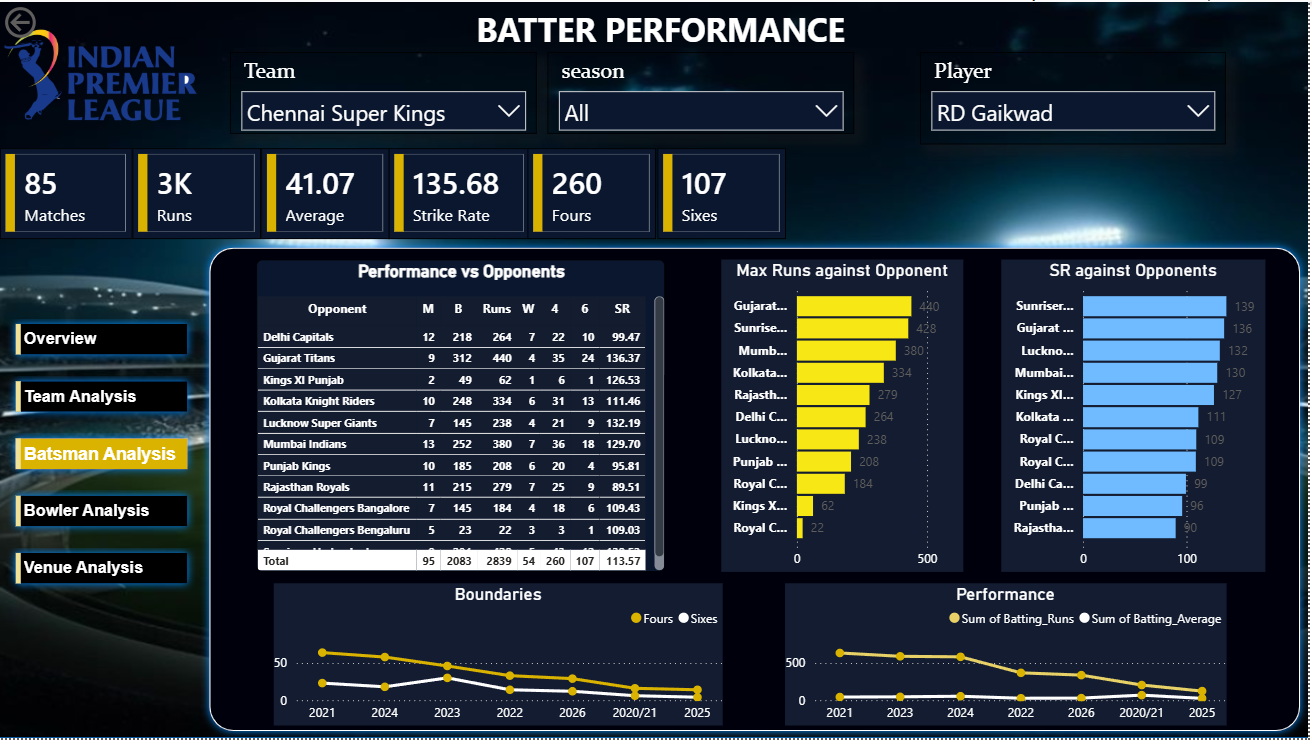

Layout of this report page (visuals, bound fields, positions):
{"tool":"powerbi","page":{"name":"Batsman Analysis ","canvas":[1280,720],"ordinal":2},"visuals":[{"type":"shape","box":[0,0,1280,720],"z":0},{"type":"image","box":[0,0,1280,719.3],"z":1000},{"type":"image","box":[0,0,196.9,143.1],"z":2000},{"type":"textbox","box":[461.3,0,374.2,53.5],"z":3000},{"type":"slicer","fields":{"Values":["IPL_Player_Season_Team_Records.Team"]},"box":[224.5,48.9,300,80],"z":4000},{"type":"slicer","fields":{"Values":["IPL_Player_Season_Team_Records.season"]},"box":[536.1,48.9,300,80],"z":5000},{"type":"actionButton","box":[0,0,100,40],"z":6000},{"type":"cardVisual","fields":{"Data":["Avg(IPL_Player_Season_Team_Records.Batting_Average)"]},"box":[255.1,143.6,125.3,88.6],"z":7000},{"type":"cardVisual","fields":{"Data":["Sum(IPL_Player_Season_Team_Records.Batting_Runs)"]},"box":[129.8,143.6,125.3,88.6],"z":8000},{"type":"cardVisual","fields":{"Data":["Avg(IPL_Player_Season_Team_Records.Strike_Rate)"]},"box":[380.3,143.6,139,88.6],"z":9000},{"type":"cardVisual","fields":{"Data":["Sum(IPL_Player_Season_Team_Records.Fours)"]},"box":[516.3,143.6,125.3,88.6],"z":10000},{"type":"cardVisual","fields":{"Data":["Sum(IPL_Player_Season_Team_Records.Sixes)"]},"box":[643.1,143.6,125.3,88.6],"z":11000},{"type":"shape","box":[197,232.2,1083,488.8],"z":12000},{"type":"clusteredBarChart","title":"Max Runs against Opponent","fields":{"Category":["IPL_Player_Season_Team_Opponent_Records.Opponent"],"Y":["Sum(IPL_Player_Season_Team_Opponent_Records.Total_Player_Runs)"]},"box":[705.7,252,236.8,305.5],"z":13000},{"type":"clusteredBarChart","title":"SR against Opponents","fields":{"Category":["IPL_Player_Season_Team_Opponent_Records.Opponent"],"Y":["Avg(IPL_Player_Season_Team_Opponent_Records.Strike_Rate_Against_Opponent)"]},"box":[979.1,252,258.1,305.5],"z":14000},{"type":"lineChart","title":"Performance","fields":{"Category":["IPL_Player_Season_Team_Records.season"],"Y":["Sum(IPL_Player_Season_Team_Records.Batting_Runs)","Sum(IPL_Player_Season_Team_Records.Batting_Average)"]},"box":[768.3,568.2,431.7,139.4],"z":15000},{"type":"lineChart","title":"Boundaries","fields":{"Category":["IPL_Player_Season_Team_Records.season"],"Y":["Sum(IPL_Player_Season_Team_Records.Fours)","Sum(IPL_Player_Season_Team_Records.Sixes)"]},"box":[267.3,568.2,439,139.4],"z":16000},{"type":"tableEx","title":"Performance vs Opponents","fields":{"Values":["IPL_Player_Season_Team_Opponent_Records.Opponent","Sum(IPL_Player_Season_Team_Opponent_Records.Team_Matches_Against_Opponent)","Sum(IPL_Player_Season_Team_Opponent_Records.Batting_Balls)","Sum(IPL_Player_Season_Team_Opponent_Records.Total_Player_Runs)","CountNonNull(IPL_Player_Season_Team_Opponent_Records.Team_Win_Pct_Against_Opponent)","Sum(IPL_Player_Season_Team_Opponent_Records.Fours)","Sum(IPL_Player_Season_Team_Opponent_Records.Sixes)","Avg(IPL_Player_Season_Team_Opponent_Records.Strike_Rate_Against_Opponent)"]},"box":[250.5,252,400.2,305.5],"z":17000},{"type":"pageNavigator","title":"CONTENT","box":[7.6,307,184.8,273.4],"z":18000},{"type":"slicer","title":"Player","fields":{"Values":["batting_summary.batter"]},"box":[899.7,48.9,299.4,90.1],"z":19000},{"type":"cardVisual","fields":{"Data":["Sum(IPL_Player_Season_Team_Records.Matches)"]},"box":[0,143.6,129.8,88.6],"z":20000}]}

Visuals, with their boxes in screenshot pixels (x1, y1, x2, y2), scaled from the page's 1280x720 canvas onto the 1312x748 screenshot:
shape: l=0, t=0, r=1311, b=747
image: l=0, t=0, r=1311, b=747
image: l=0, t=0, r=202, b=149
textbox: l=473, t=0, r=856, b=56
slicer - IPL_Player_Season_Team_Records.Team: l=230, t=51, r=538, b=134
slicer - IPL_Player_Season_Team_Records.season: l=550, t=51, r=857, b=134
actionButton: l=0, t=0, r=102, b=42
cardVisual - Avg(IPL_Player_Season_Team_Records.Batting_Average): l=261, t=149, r=390, b=241
cardVisual - Sum(IPL_Player_Season_Team_Records.Batting_Runs): l=133, t=149, r=261, b=241
cardVisual - Avg(IPL_Player_Season_Team_Records.Strike_Rate): l=390, t=149, r=532, b=241
cardVisual - Sum(IPL_Player_Season_Team_Records.Fours): l=529, t=149, r=658, b=241
cardVisual - Sum(IPL_Player_Season_Team_Records.Sixes): l=659, t=149, r=788, b=241
shape: l=202, t=241, r=1311, b=747
"Max Runs against Opponent" clusteredBarChart: l=723, t=262, r=966, b=579
"SR against Opponents" clusteredBarChart: l=1004, t=262, r=1268, b=579
"Performance" lineChart: l=788, t=590, r=1230, b=735
"Boundaries" lineChart: l=274, t=590, r=724, b=735
"Performance vs Opponents" tableEx: l=257, t=262, r=667, b=579
"CONTENT" pageNavigator: l=8, t=319, r=197, b=603
"Player" slicer: l=922, t=51, r=1229, b=144
cardVisual - Sum(IPL_Player_Season_Team_Records.Matches): l=0, t=149, r=133, b=241
